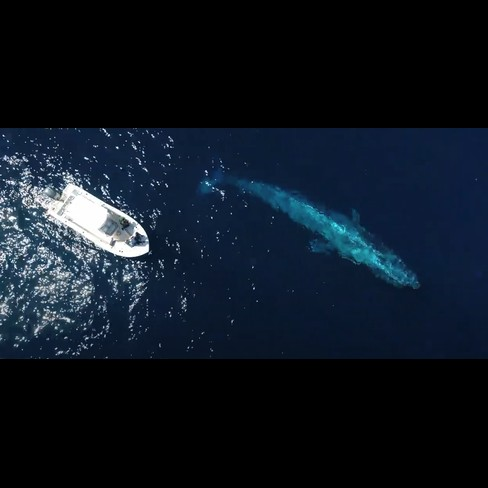bluewhale: (196, 159, 425, 296)
boat: (39, 179, 154, 263)
